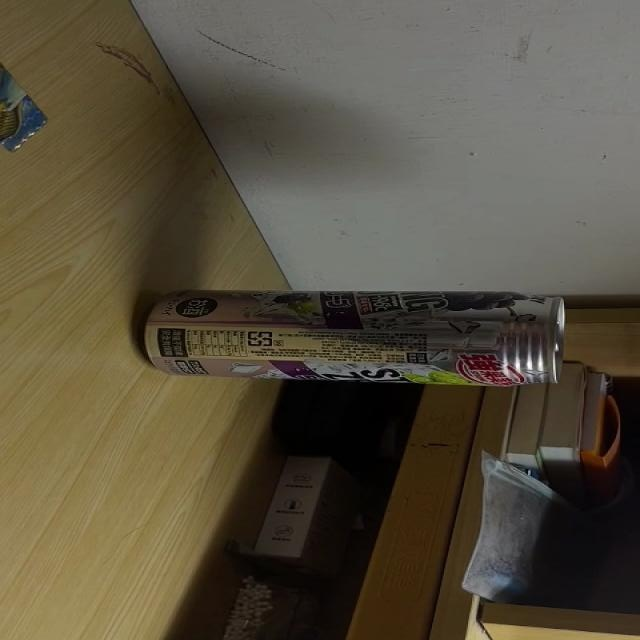Liquor: (136, 290, 572, 384)
